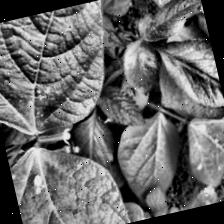Bean Rust: (0, 0, 130, 141), (7, 132, 131, 224), (177, 104, 224, 192)
